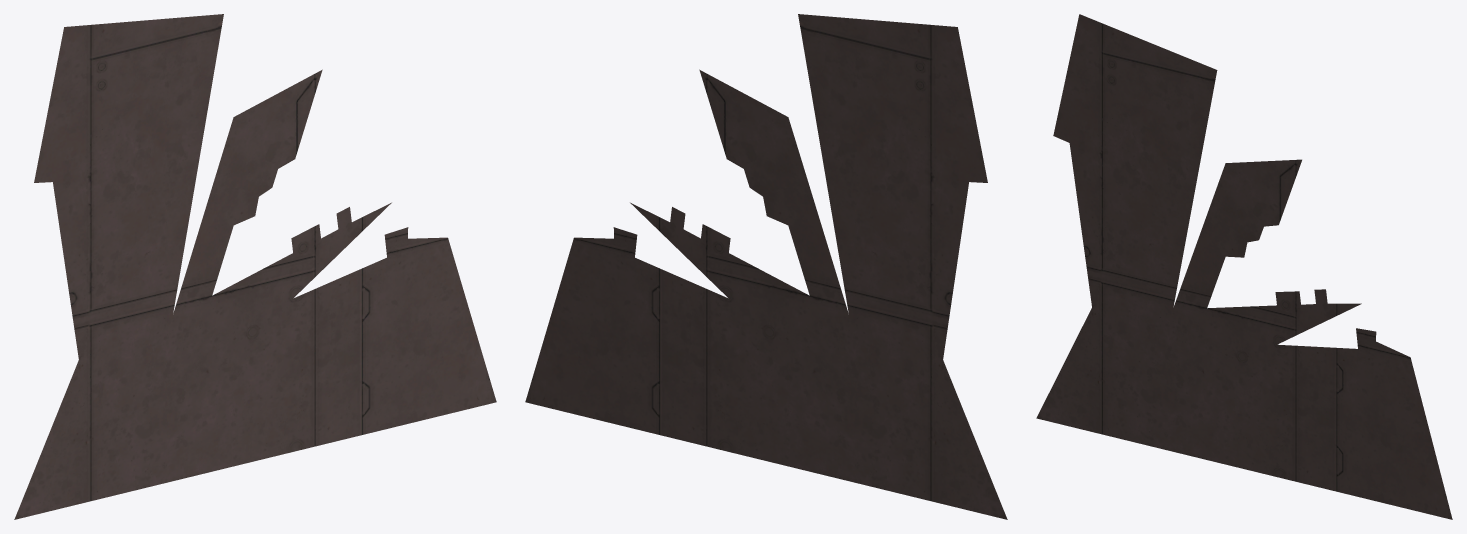
File: Vista15.fbx
3 views of the same model, side by side, from view 1: azimuth 30°, elevation 25°; view 2: azimuth 150°, elevation 25°; view 3: azimuth 330°, elevation 25° (orthographic). The views are drawn at different scales.
Visible parts, largest first — view 1: SM_ENV_STRUCT_ScrapYard_Vista_15.mo; view 2: SM_ENV_STRUCT_ScrapYard_Vista_15.mo; view 3: SM_ENV_STRUCT_ScrapYard_Vista_15.mo.
Boxes of the visible parts, bbox=[...] form: SM_ENV_STRUCT_ScrapYard_Vista_15.mo: bbox=[14, 14, 496, 519]; SM_ENV_STRUCT_ScrapYard_Vista_15.mo: bbox=[525, 14, 1007, 519]; SM_ENV_STRUCT_ScrapYard_Vista_15.mo: bbox=[1036, 14, 1452, 519].
Bounding box in the file's own units: 2070 × 1972 × 0.000687.
1 material, 1 textured.
